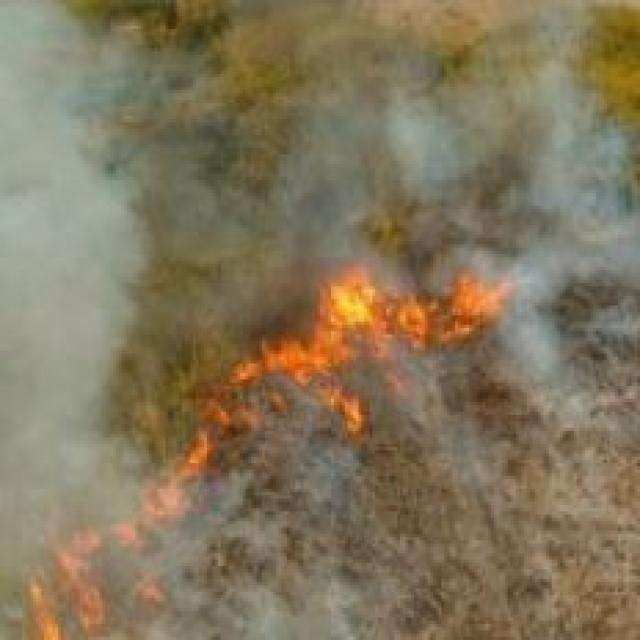Fire: (239, 276, 516, 380), (138, 408, 232, 541), (21, 520, 116, 640), (312, 386, 374, 439)
Smoke: (277, 0, 618, 257), (0, 12, 143, 524), (506, 282, 624, 409), (165, 575, 368, 640)
